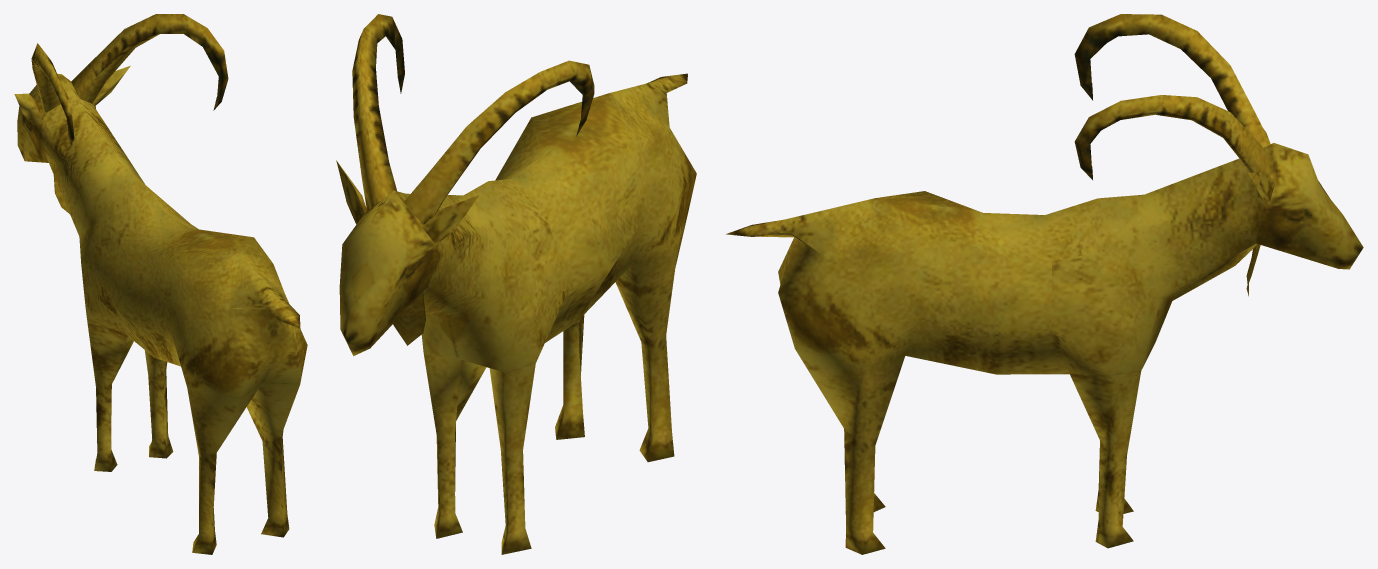
The model's file is treasure_golden_fleece.glb.
3 views of the same model, side by side, from view 1: azimuth 30°, elevation 25°; view 2: azimuth 150°, elevation 25°; view 3: azimuth 270°, elevation 25° (orthographic). The views are drawn at different scales.
Visible parts, largest first — view 1: treasure_golden_fleece_part0; view 2: treasure_golden_fleece_part0; view 3: treasure_golden_fleece_part0.
Part boxes in pixels (left/top/right/bottom): treasure_golden_fleece_part0: left=14, top=14, right=307, bottom=554; treasure_golden_fleece_part0: left=336, top=14, right=696, bottom=554; treasure_golden_fleece_part0: left=726, top=14, right=1363, bottom=554.
Size of the model in its own units: 0.6645 by 1.57 by 1.92.
1 material, 1 textured.
